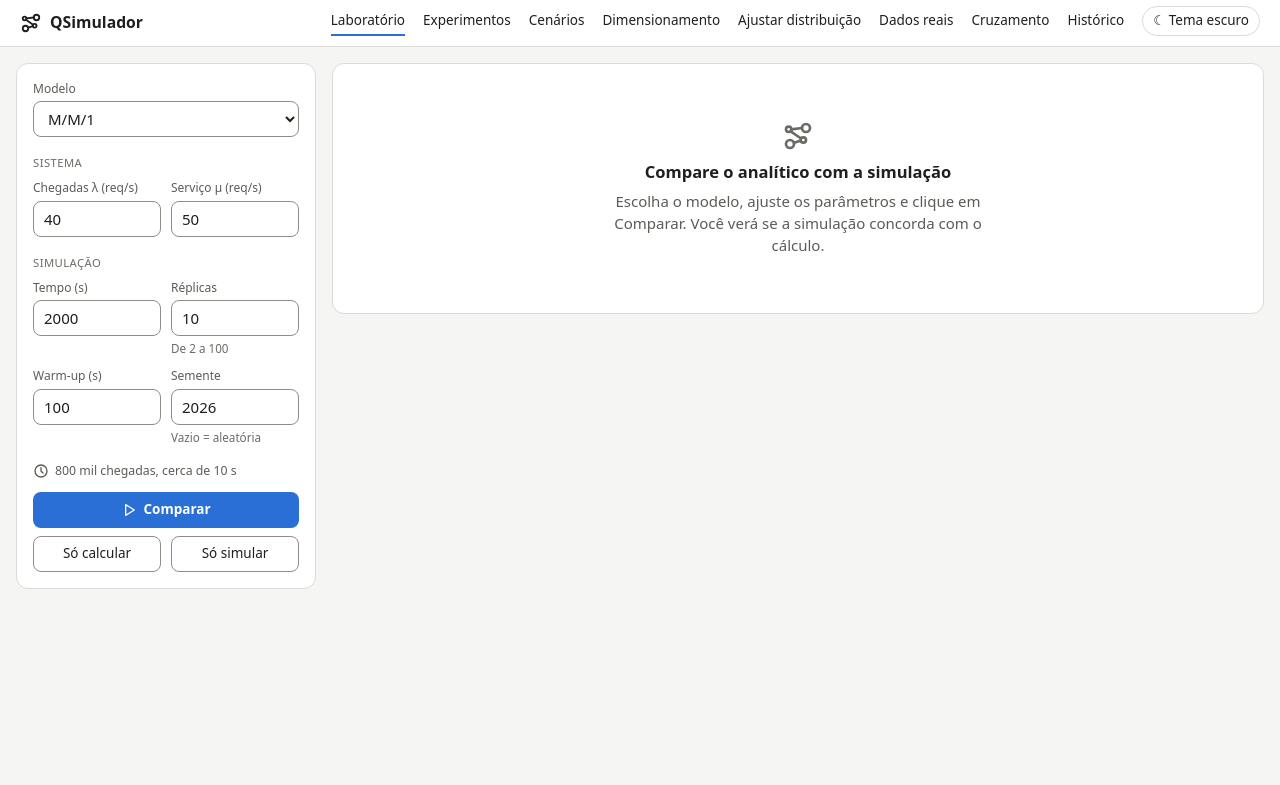
it: aba Cenários › abre com dois cenários de exemplo e herda a base do Laboratório
Select "M/M/c" in the dropdown labelled "Modelo": (166, 119) [33,101,299,137]
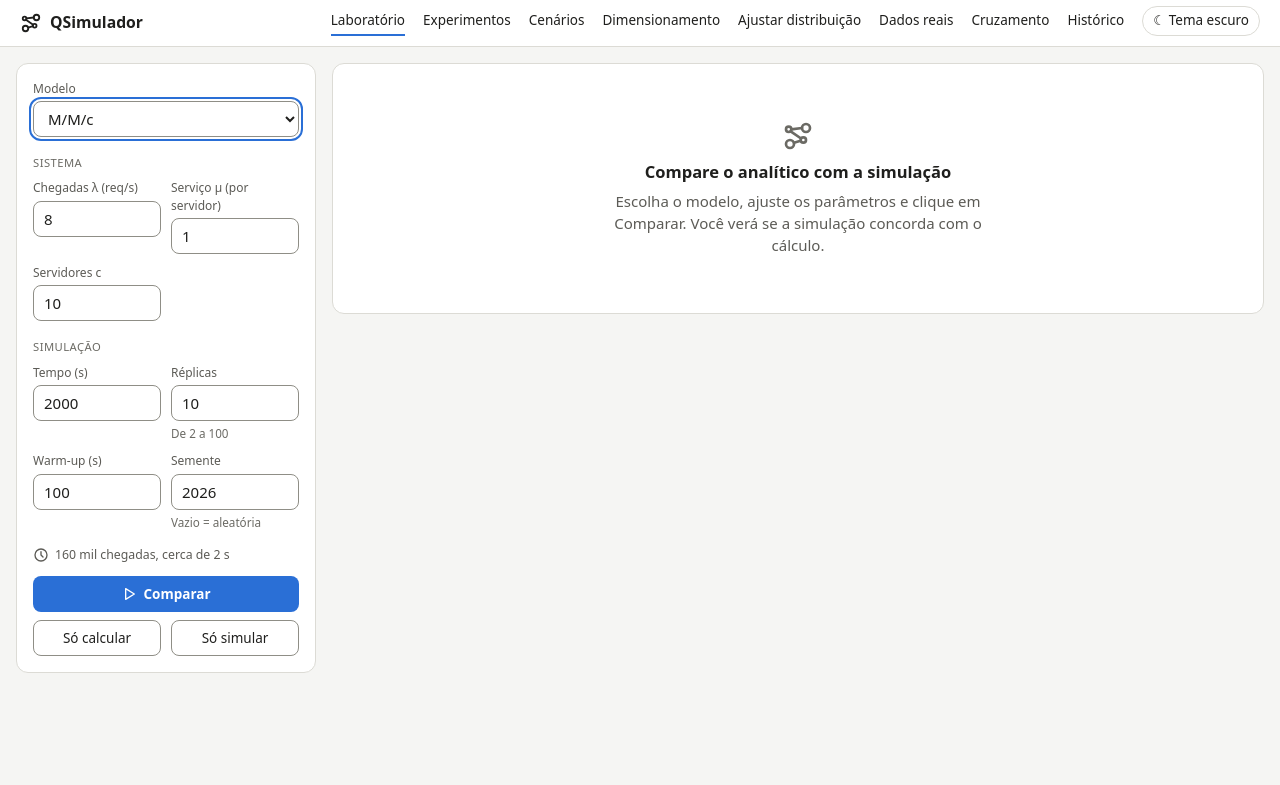
Click the button "Cenários": (557, 23) [529,10,585,36]
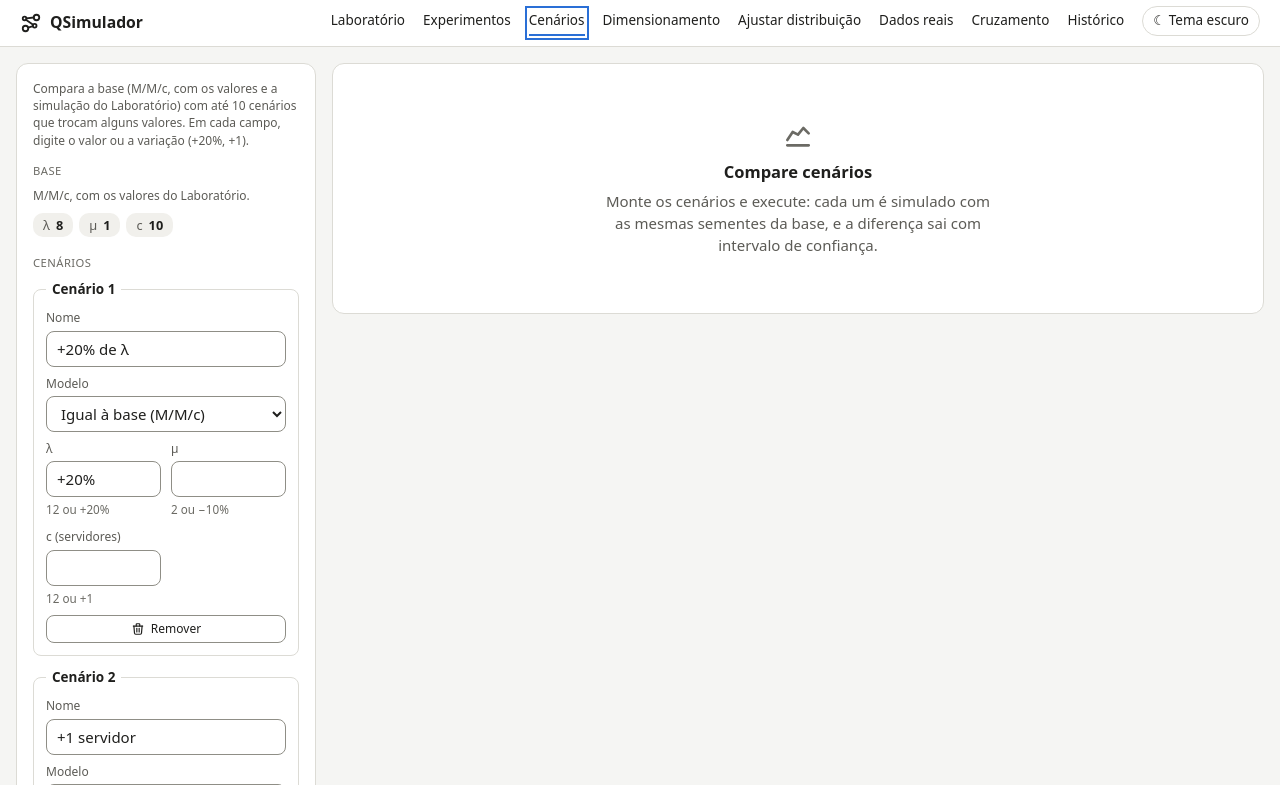
Result: the text "M/M/c, com os valores e a simulação do Laboratório" is shown at [33,80,299,149]
Result: the 1st field labelled "Nome" holds "+20% de λ" at [46,331,286,367]
Result: the field labelled "λ" holds "+20%" at [46,461,161,497]
